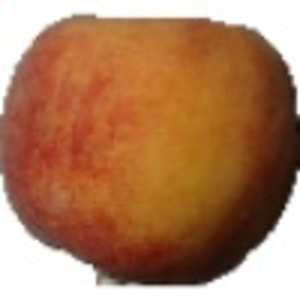pêssego: (1, 12, 300, 289)
